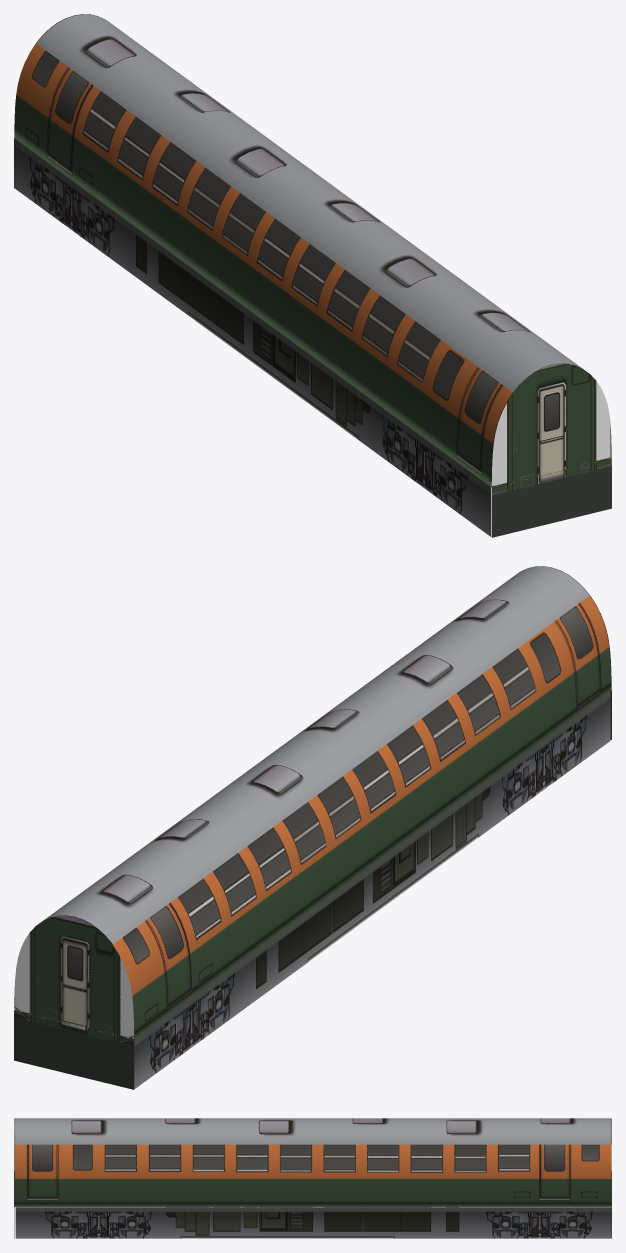
Rendered from car3.glb.
3 renders of one model, top to bottom at view 1: azimuth 30°, elevation 25°; view 2: azimuth 150°, elevation 25°; view 3: azimuth 270°, elevation 25°, orthographic. The views are drawn at different scales.
Visible parts, largest first — view 1: jnr-155-car3; view 2: jnr-155-car3; view 3: jnr-155-car3.
Part boxes in pixels (<box>): jnr-155-car3: <box>14,14,611,537</box>; jnr-155-car3: <box>14,566,611,1089</box>; jnr-155-car3: <box>14,1118,611,1238</box>.
Size of the model in its own units: 2.9 by 3.65 by 20.03.
9 materials, 8 textured.
